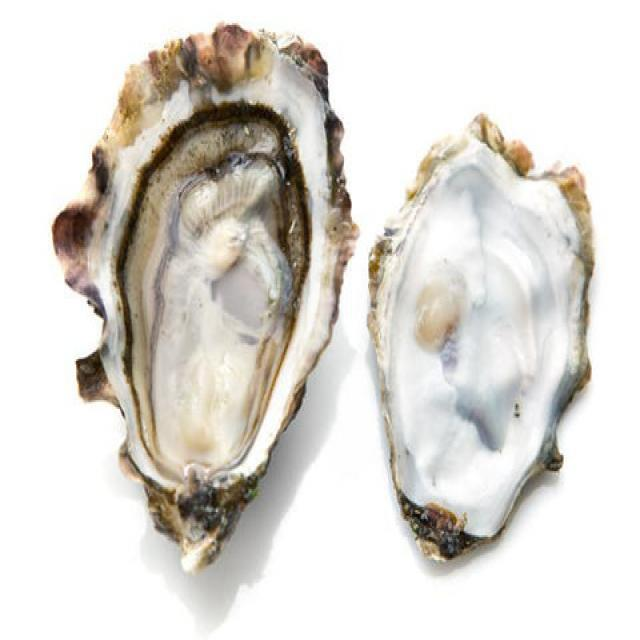Oyster-Open: (50, 23, 359, 555), (366, 116, 596, 565)
